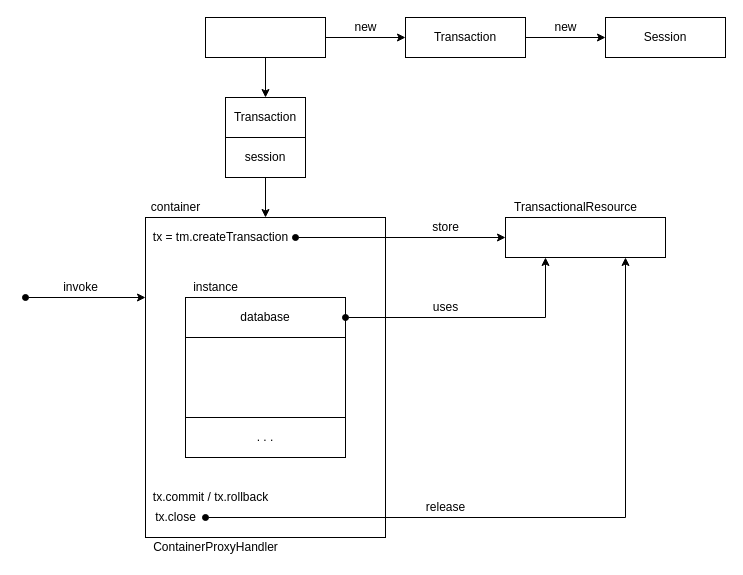
Some shapes in this 743 by 575 pixel diagram are drawn without their labels. Each missing label, with the centre of its shape:
"method database.getSession()" belongs at (265,377).
"TLS<Session>" belongs at (585,237).
"TransactionManager" belongs at (265,37).
